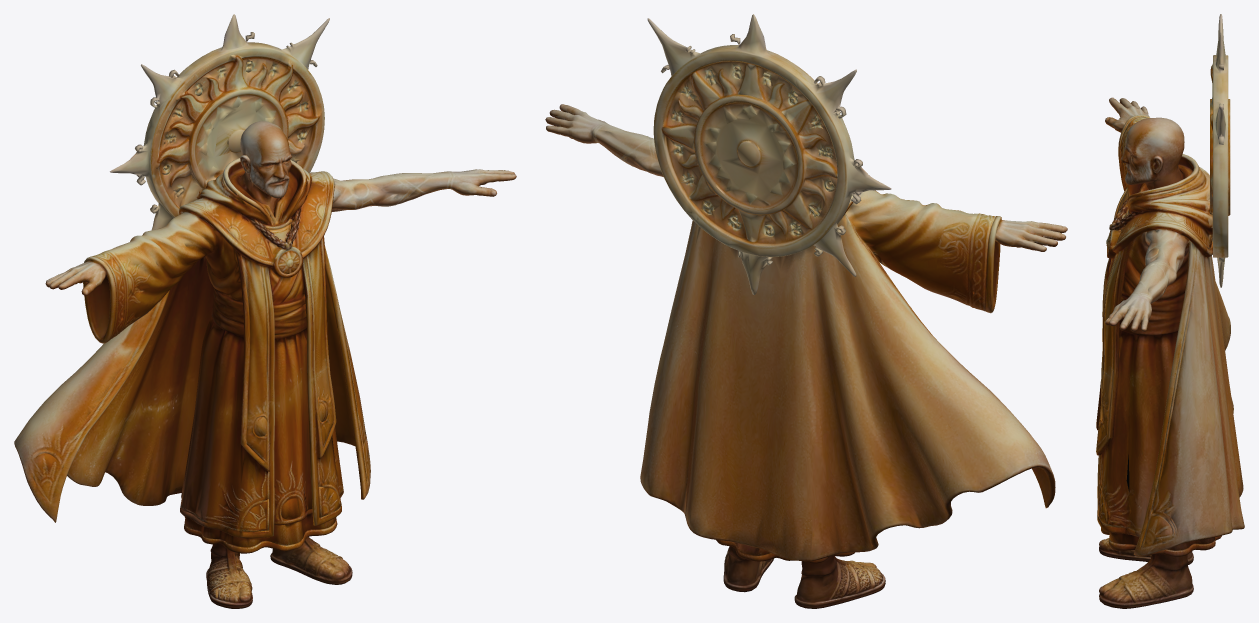
Rendered from priest.fbx.
3 views of the same model, side by side, from view 1: azimuth 30°, elevation 25°; view 2: azimuth 150°, elevation 25°; view 3: azimuth 270°, elevation 25° (orthographic). The views are drawn at different scales.
Visible parts, largest first — view 1: tripo_node_600b33dd; view 2: tripo_node_600b33dd; view 3: tripo_node_600b33dd.
Boxes of the visible parts, box(x1,y1,x2,y2) form: tripo_node_600b33dd: box(14, 14, 516, 608); tripo_node_600b33dd: box(545, 14, 1067, 608); tripo_node_600b33dd: box(1096, 14, 1244, 608).
Size of the model in its own units: 89.87 by 24.29 by 98.11.
Materials: 1 (1 with a texture image).
